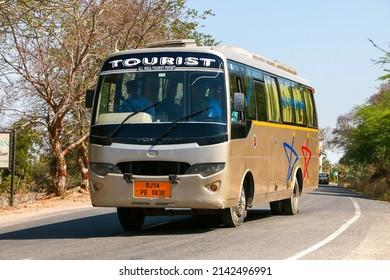bus: (85, 42, 319, 229)
